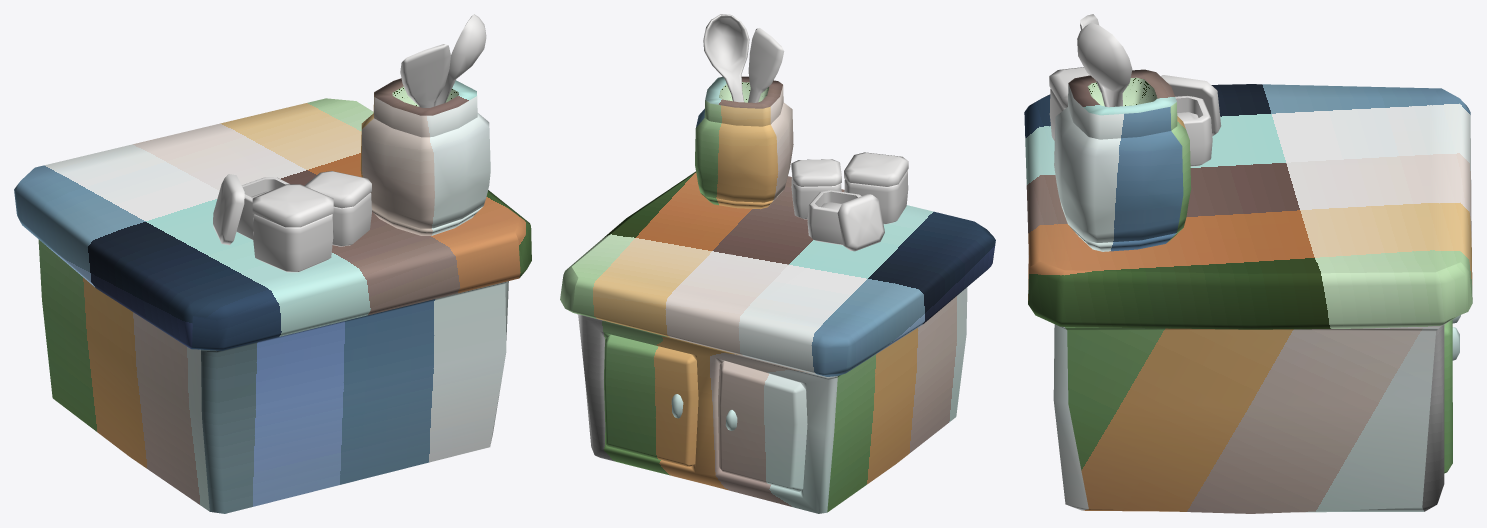
Rendered from P_StoneKitchenCabinet.glb.
The picture shows the model from 3 angles, left to right: view 1: azimuth 30°, elevation 25°; view 2: azimuth 150°, elevation 25°; view 3: azimuth 270°, elevation 25°; orthographic projection. The views are drawn at different scales.
Parts seen in each view (by area): view 1: P_StoneKitchenCabinet; view 2: P_StoneKitchenCabinet; view 3: P_StoneKitchenCabinet.
Part boxes in pixels (x1,y1,x2,y2): P_StoneKitchenCabinet: (14, 14, 531, 513); P_StoneKitchenCabinet: (560, 14, 995, 513); P_StoneKitchenCabinet: (1024, 14, 1472, 513).
Bounding box in the file's own units: 1.04 × 1.17 × 0.9806.
1 material, 1 textured.
